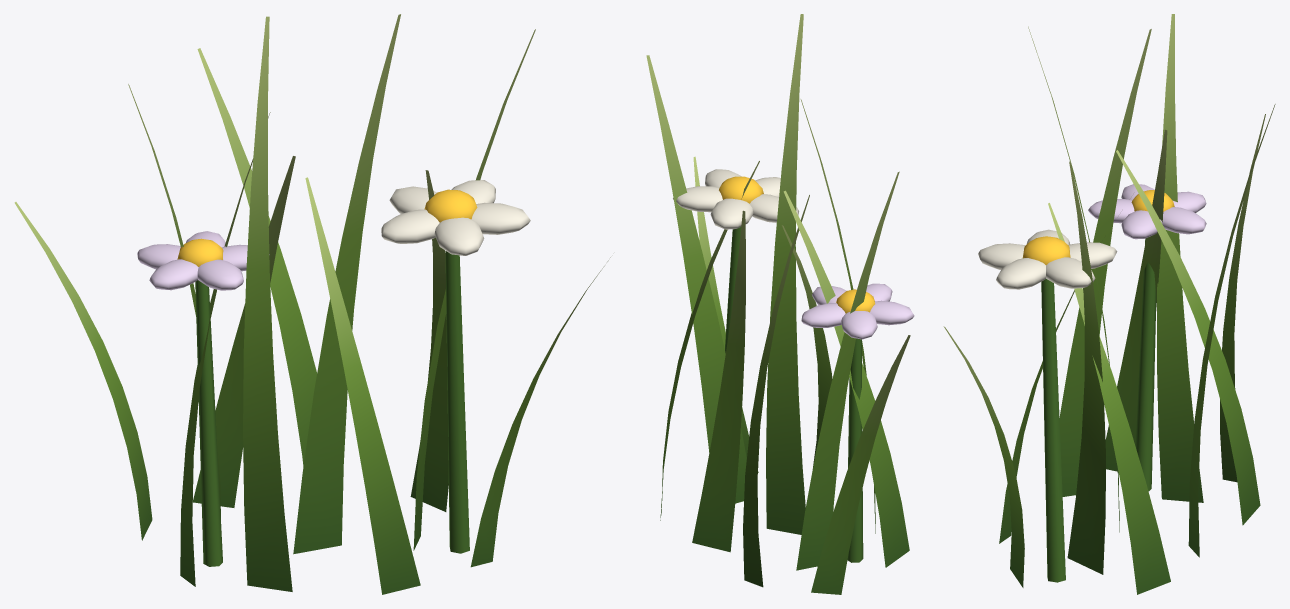
File: grass-clump.glb
3 renders of one model, left to right at view 1: azimuth 30°, elevation 25°; view 2: azimuth 150°, elevation 25°; view 3: azimuth 270°, elevation 25°, orthographic. The views are drawn at different scales.
Visible parts, largest first — view 1: __optimized_merged_material_0, __optimized_merged_material_1, __optimized_merged_material_2, __optimized_merged_material_4, __optimized_merged_material_3; view 2: __optimized_merged_material_0, __optimized_merged_material_2, __optimized_merged_material_4, __optimized_merged_material_1, __optimized_merged_material_3; view 3: __optimized_merged_material_0, __optimized_merged_material_1, __optimized_merged_material_2, __optimized_merged_material_4, __optimized_merged_material_3.
Part boxes in pixels (<box>): __optimized_merged_material_0: <box>14,14,610,594</box>; __optimized_merged_material_1: <box>195,251,469,566</box>; __optimized_merged_material_2: <box>381,180,530,255</box>; __optimized_merged_material_4: <box>137,231,269,290</box>; __optimized_merged_material_3: <box>177,189,477,266</box>; __optimized_merged_material_0: <box>646,14,910,594</box>; __optimized_merged_material_2: <box>673,169,798,229</box>; __optimized_merged_material_4: <box>801,283,914,339</box>; __optimized_merged_material_1: <box>725,227,863,562</box>; __optimized_merged_material_3: <box>719,176,875,313</box>; __optimized_merged_material_0: <box>943,14,1275,594</box>; __optimized_merged_material_1: <box>1041,238,1156,582</box>; __optimized_merged_material_2: <box>978,229,1117,289</box>; __optimized_merged_material_4: <box>1088,184,1206,239</box>; __optimized_merged_material_3: <box>1022,190,1174,264</box>.
Size of the model in its own units: 0.3973 by 0.5022 by 0.2897.
